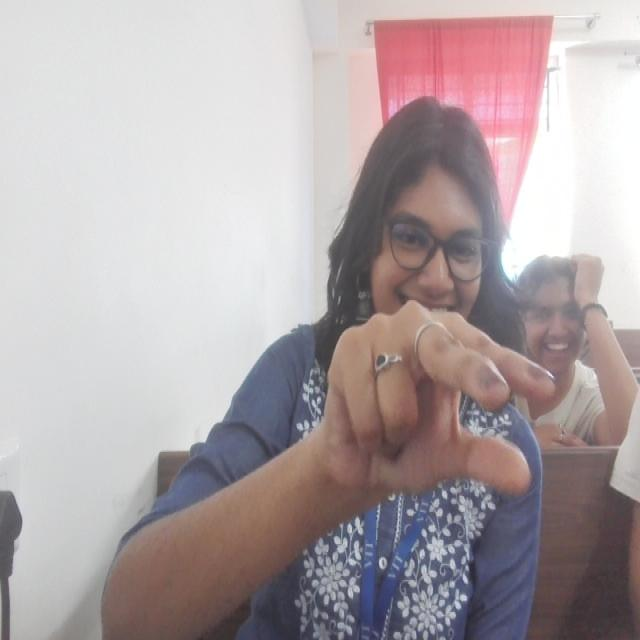no: (318, 296, 560, 504)
